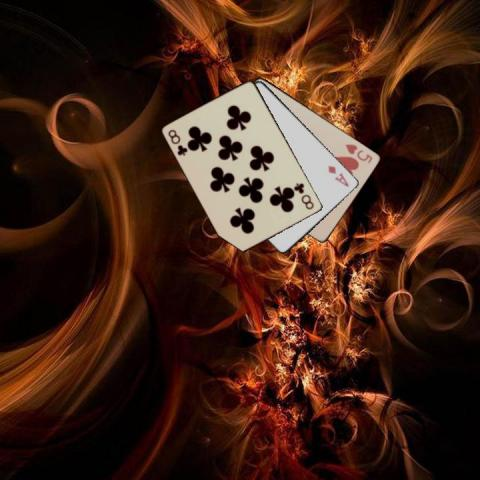5h: (342, 140, 374, 164)
8c: (292, 180, 316, 211), (166, 127, 190, 157)
Ad: (325, 163, 351, 188)
